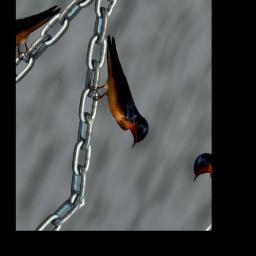Swallow: (68, 32, 177, 153)
